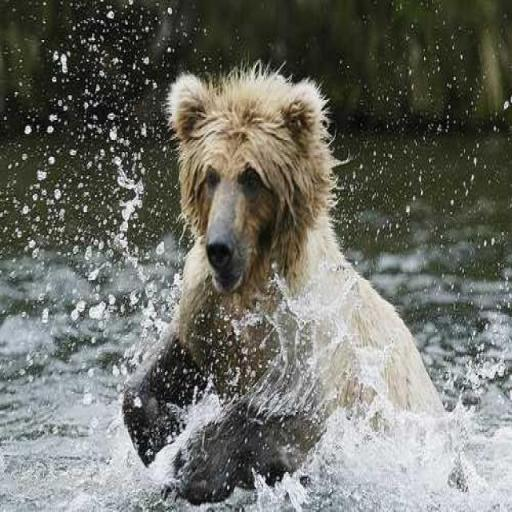Bear: (120, 58, 454, 504)
